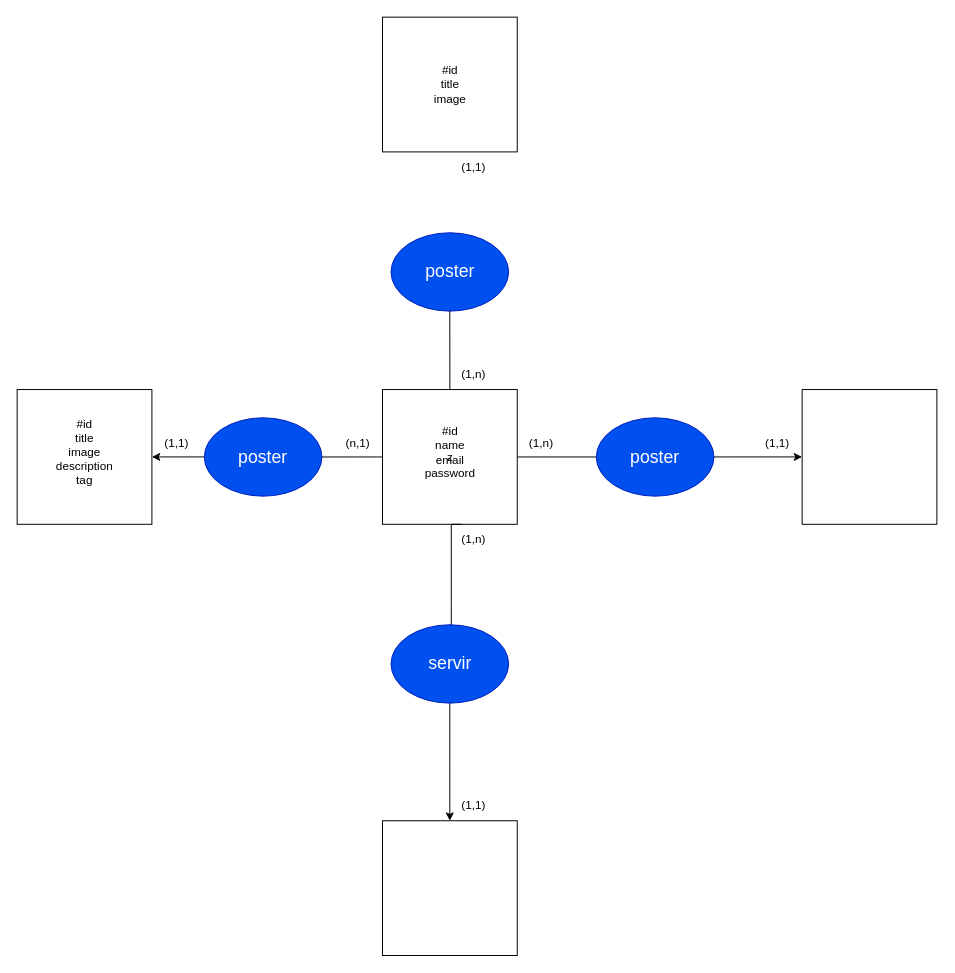
Image size: 955x973. Some labels were removed from this diagram. The box of each missing label's shape, as (x1, y1, x2, y2) in pixels:
#id email phone genre occasion: (382, 820, 517, 956)
#id title video description tag: (801, 389, 937, 524)
